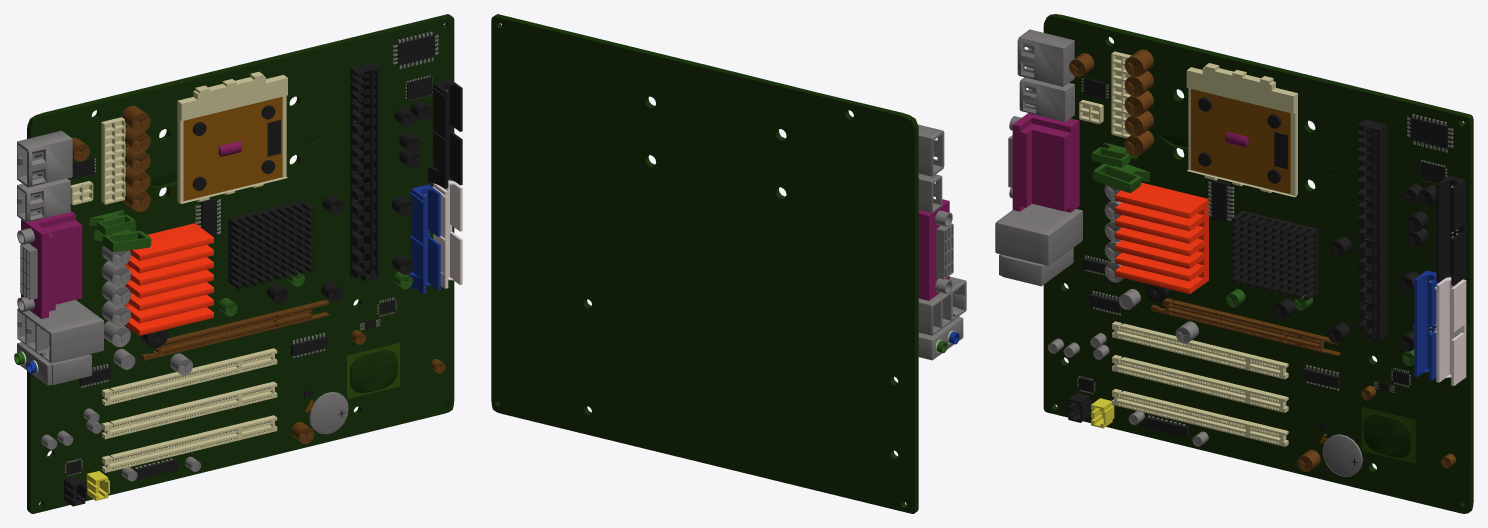
3 views of the same model, side by side, from view 1: azimuth 30°, elevation 25°; view 2: azimuth 150°, elevation 25°; view 3: azimuth 330°, elevation 25° (orthographic).
Parts seen in each view (by area): view 1: Ground, Chipsatz, Box005, RAM_Black_Mat_0, SchawrzesNoppenTeil_Black_Mat_0, Box003_Pink_Mat_0, CPU_Beige_Mat_0, HDMI, RightPlugBlack, WhitePlug1, WhitePlug2, RightPlugBlue (+23 smaller); view 2: Ground, Box003_Pink_Mat_0, HDMI, LeftPlug003, Box004, SoundOutput, LeftPlug002; view 3: Ground, Chipsatz, Box005, SchawrzesNoppenTeil_Black_Mat_0, RAM_Black_Mat_0, Box003_Pink_Mat_0, CPU_Beige_Mat_0, HDMI, RightPlugBlack, RightPlugWhite, WhitePlug1, WhitePlug2 (+18 smaller).
Part boxes in pixels (x1=…): Ground: x1=27, y1=14, x2=454, y2=513; Chipsatz: x1=124, y1=223, x2=213, y2=335; Box005: x1=183, y1=96, x2=282, y2=200; RAM_Black_Mat_0: x1=350, y1=63, x2=379, y2=281; SchawrzesNoppenTeil_Black_Mat_0: x1=228, y1=200, x2=314, y2=289; Box003_Pink_Mat_0: x1=21, y1=211, x2=82, y2=318; CPU_Beige_Mat_0: x1=177, y1=71, x2=287, y2=204; HDMI: x1=17, y1=300, x2=103, y2=363; RightPlugBlack: x1=428, y1=79, x2=462, y2=188; WhitePlug1: x1=102, y1=415, x2=277, y2=472; WhitePlug2: x1=102, y1=381, x2=277, y2=439; RightPlugBlue: x1=408, y1=184, x2=440, y2=293; Ground: x1=491, y1=14, x2=918, y2=513; Box003_Pink_Mat_0: x1=918, y1=199, x2=949, y2=300; HDMI: x1=918, y1=276, x2=966, y2=335; LeftPlug003: x1=918, y1=124, x2=944, y2=176; Box004: x1=936, y1=223, x2=953, y2=279; SoundOutput: x1=918, y1=316, x2=963, y2=360; LeftPlug002: x1=918, y1=173, x2=942, y2=213; Ground: x1=1043, y1=14, x2=1473, y2=513; Chipsatz: x1=1115, y1=182, x2=1208, y2=293; Box005: x1=1191, y1=89, x2=1290, y2=193; SchawrzesNoppenTeil_Black_Mat_0: x1=1231, y1=210, x2=1318, y2=300; RAM_Black_Mat_0: x1=1357, y1=119, x2=1387, y2=341; Box003_Pink_Mat_0: x1=1012, y1=113, x2=1079, y2=212; CPU_Beige_Mat_0: x1=1186, y1=63, x2=1297, y2=197; HDMI: x1=995, y1=203, x2=1082, y2=265; RightPlugBlack: x1=1434, y1=175, x2=1466, y2=285; RightPlugWhite: x1=1434, y1=277, x2=1466, y2=386; WhitePlug1: x1=1112, y1=389, x2=1288, y2=446; WhitePlug2: x1=1112, y1=355, x2=1288, y2=412.
Size of the model in its own units: 0.5067 by 0.4316 by 0.0753.
